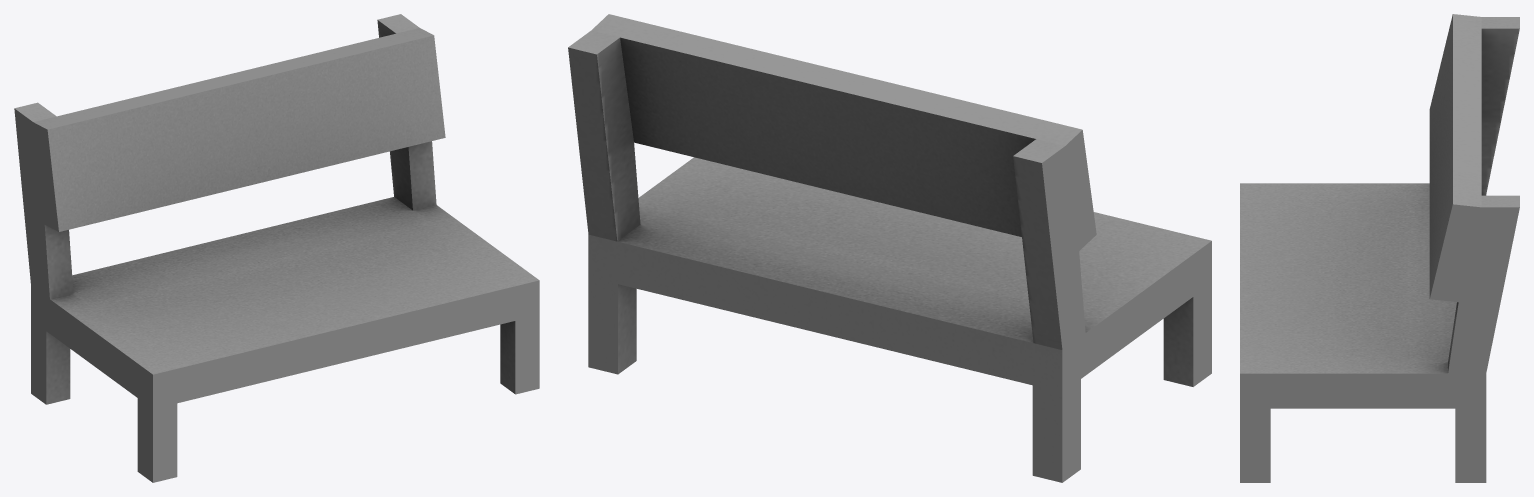
Rendered from JeepSmallSeat.obj.
3 views of the same model, side by side, from view 1: azimuth 30°, elevation 25°; view 2: azimuth 150°, elevation 25°; view 3: azimuth 270°, elevation 25° (orthographic). The views are drawn at different scales.
Parts seen in each view (by area): view 1: Small_Seat_Cube.007; view 2: Small_Seat_Cube.007; view 3: Small_Seat_Cube.007.
Boxes of the visible parts, x1=… form: Small_Seat_Cube.007: x1=14, y1=14, x2=539, y2=482; Small_Seat_Cube.007: x1=568, y1=14, x2=1211, y2=482; Small_Seat_Cube.007: x1=1240, y1=14, x2=1519, y2=482.
Size of the model in its own units: 1.07 by 0.729 by 0.6637.
